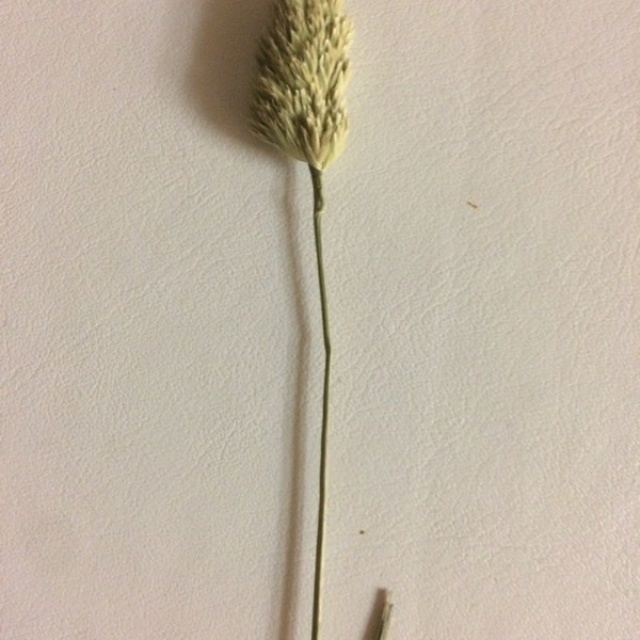obstacle: (217, 38, 397, 619)
